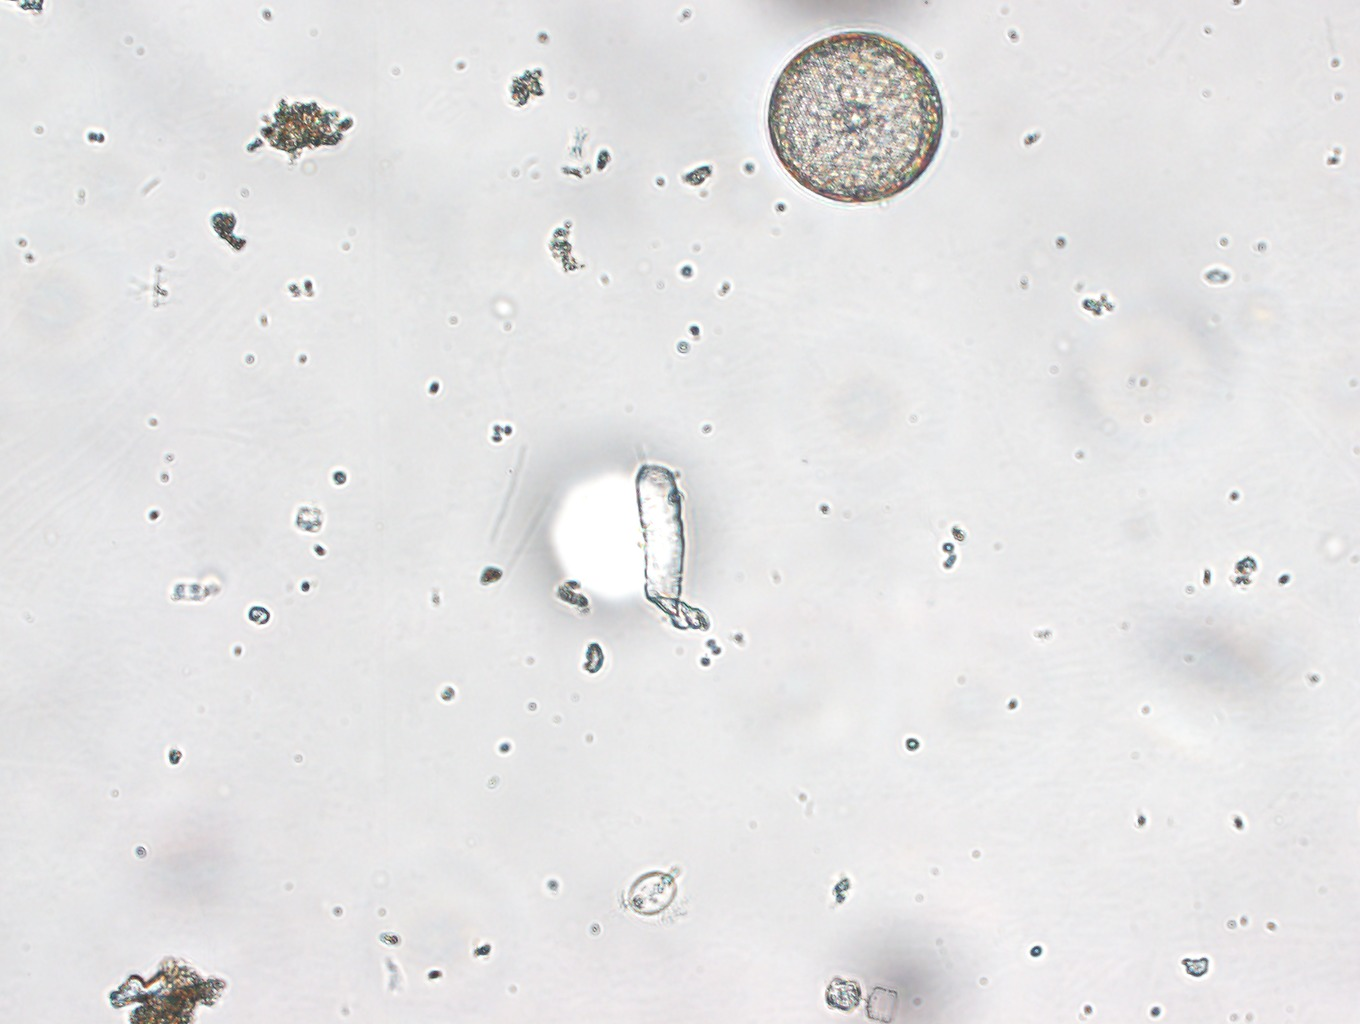coscinodiscus: (761, 29, 945, 205)
